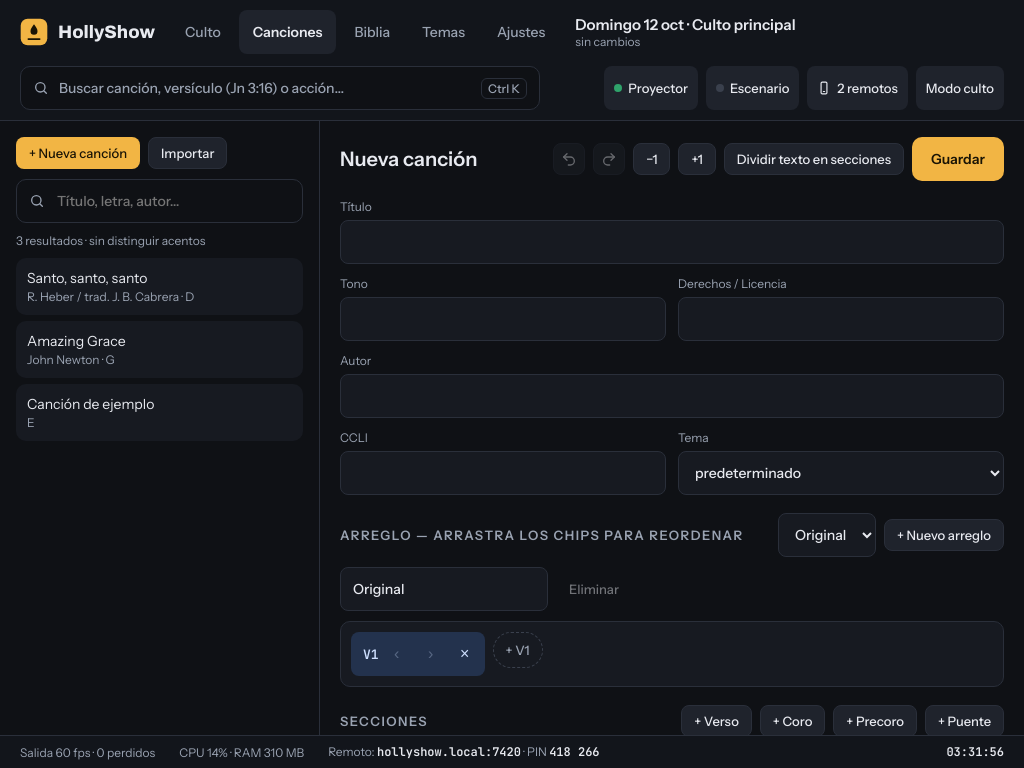
Scenario: songs › creates a new song and requires a title
Check: the field labelled "Título" is shown, box [340, 220, 1004, 264]
Click the button "Guardar": (958, 159) [912, 137, 1004, 181]
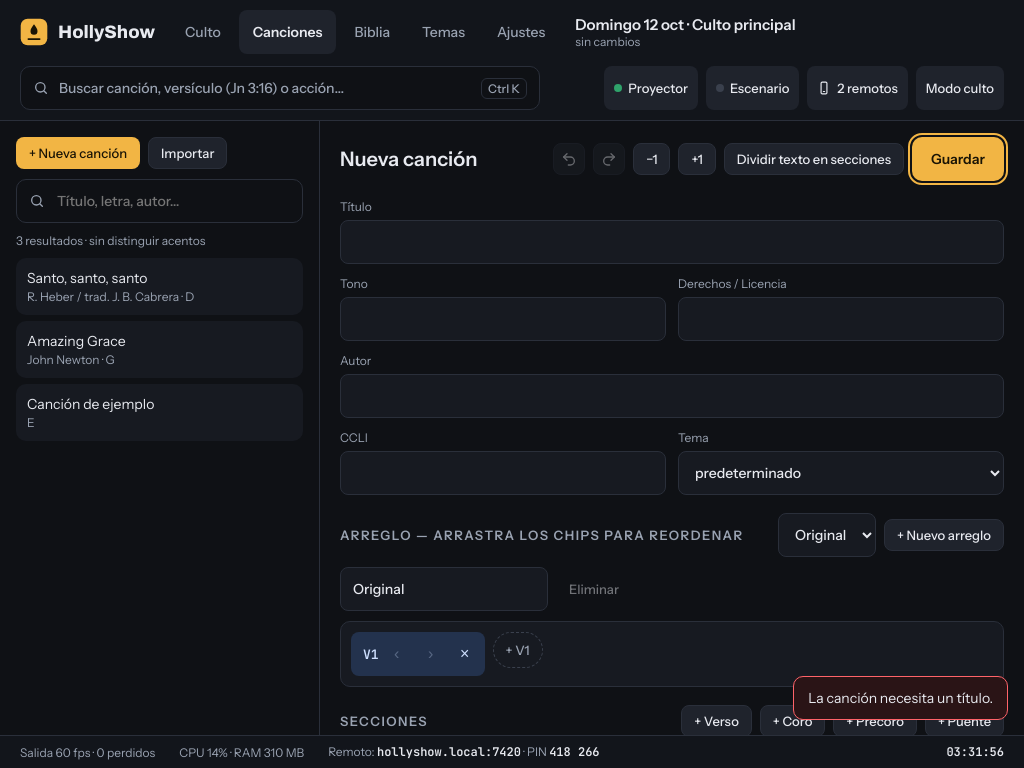
Check: the text "La canción necesita un título." is shown, box [793, 676, 1008, 720]
